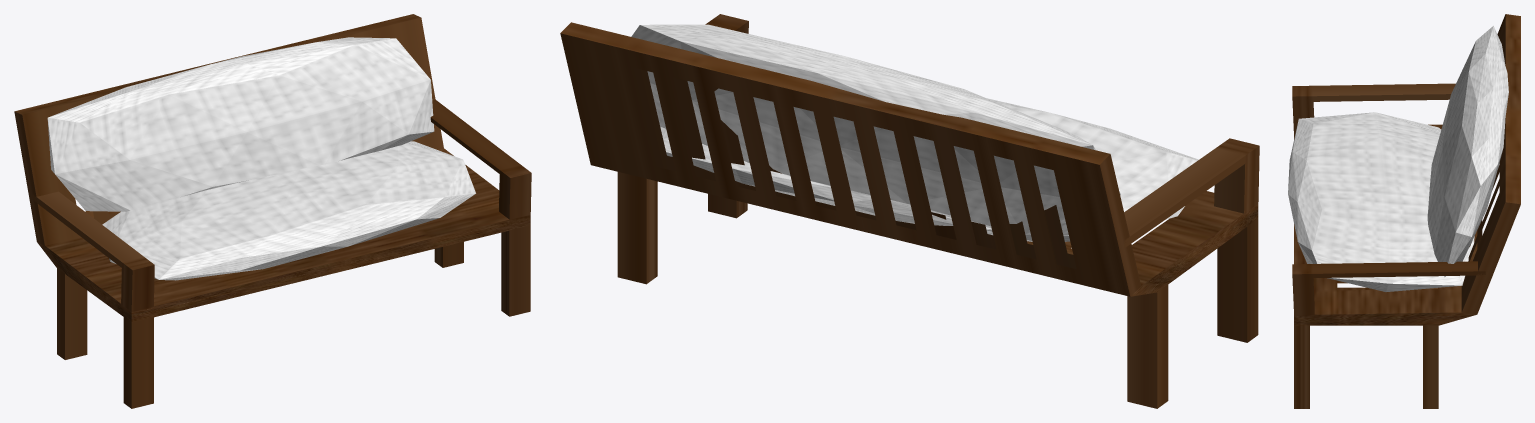
Rendered from couch.fbx.
3 renders of one model, left to right at view 1: azimuth 30°, elevation 25°; view 2: azimuth 150°, elevation 25°; view 3: azimuth 270°, elevation 25°, orthographic. The views are drawn at different scales.
Visible parts, largest first — view 1: Esfera geodésica.003, Cube, Esfera geodésica.001; view 2: Cube, Esfera geodésica.003, Esfera geodésica.001; view 3: Cube, Esfera geodésica.001, Esfera geodésica.003.
Boxes of the visible parts, x1,y1,x2,y2 form: Esfera geodésica.003: (47, 37, 434, 211); Cube: (14, 14, 531, 408); Esfera geodésica.001: (102, 141, 475, 280); Cube: (560, 14, 1259, 408); Esfera geodésica.003: (631, 24, 1120, 234); Esfera geodésica.001: (660, 98, 1198, 241); Cube: (1292, 14, 1520, 408); Esfera geodésica.001: (1288, 112, 1474, 291); Esfera geodésica.003: (1427, 26, 1508, 276).
Bounding box in the file's own units: 236 × 127 × 124.
Materials: 2 (2 with a texture image).
